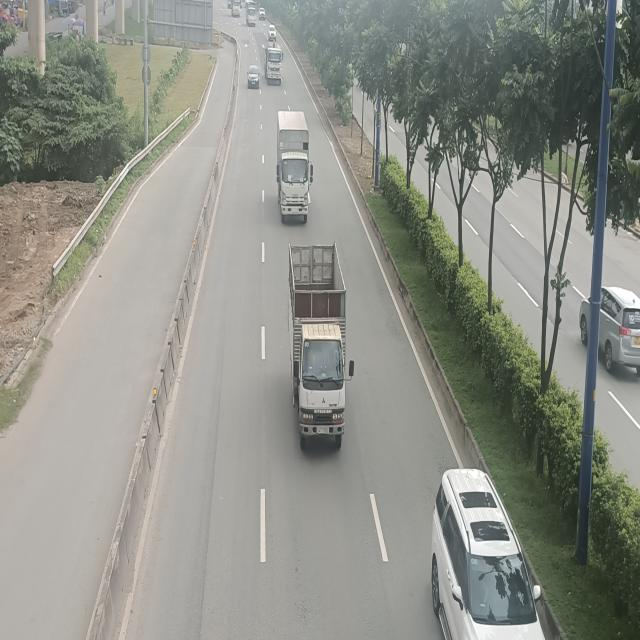car: (429, 468, 547, 640)
truck: (288, 238, 353, 452), (276, 108, 313, 224), (267, 47, 284, 85)
